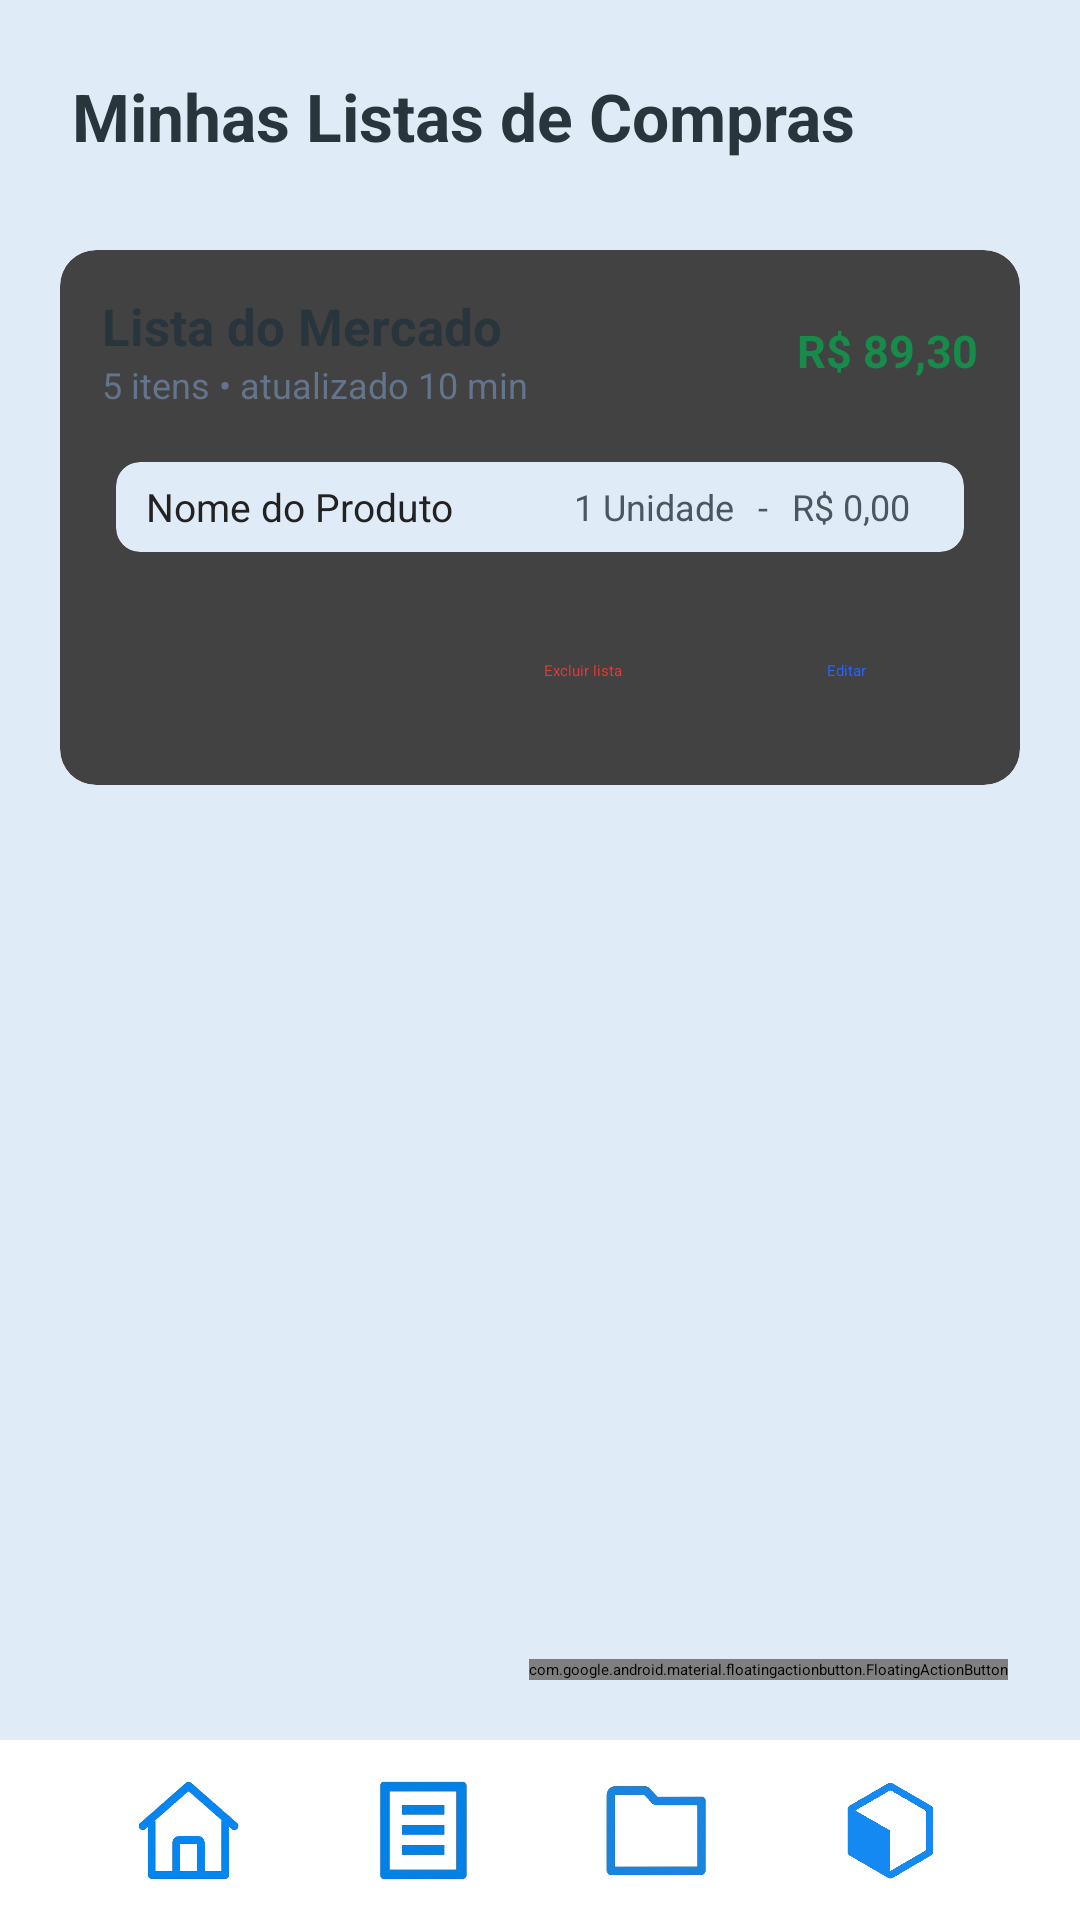

Where icons sit on this 1080×1920 app screen, as Rect(x1, y1, x2, y2):
caixa: Rect(847, 1783, 933, 1879)
home: Rect(139, 1782, 239, 1879)
lista: Rect(380, 1781, 467, 1879)
pasta: Rect(606, 1786, 706, 1875)
